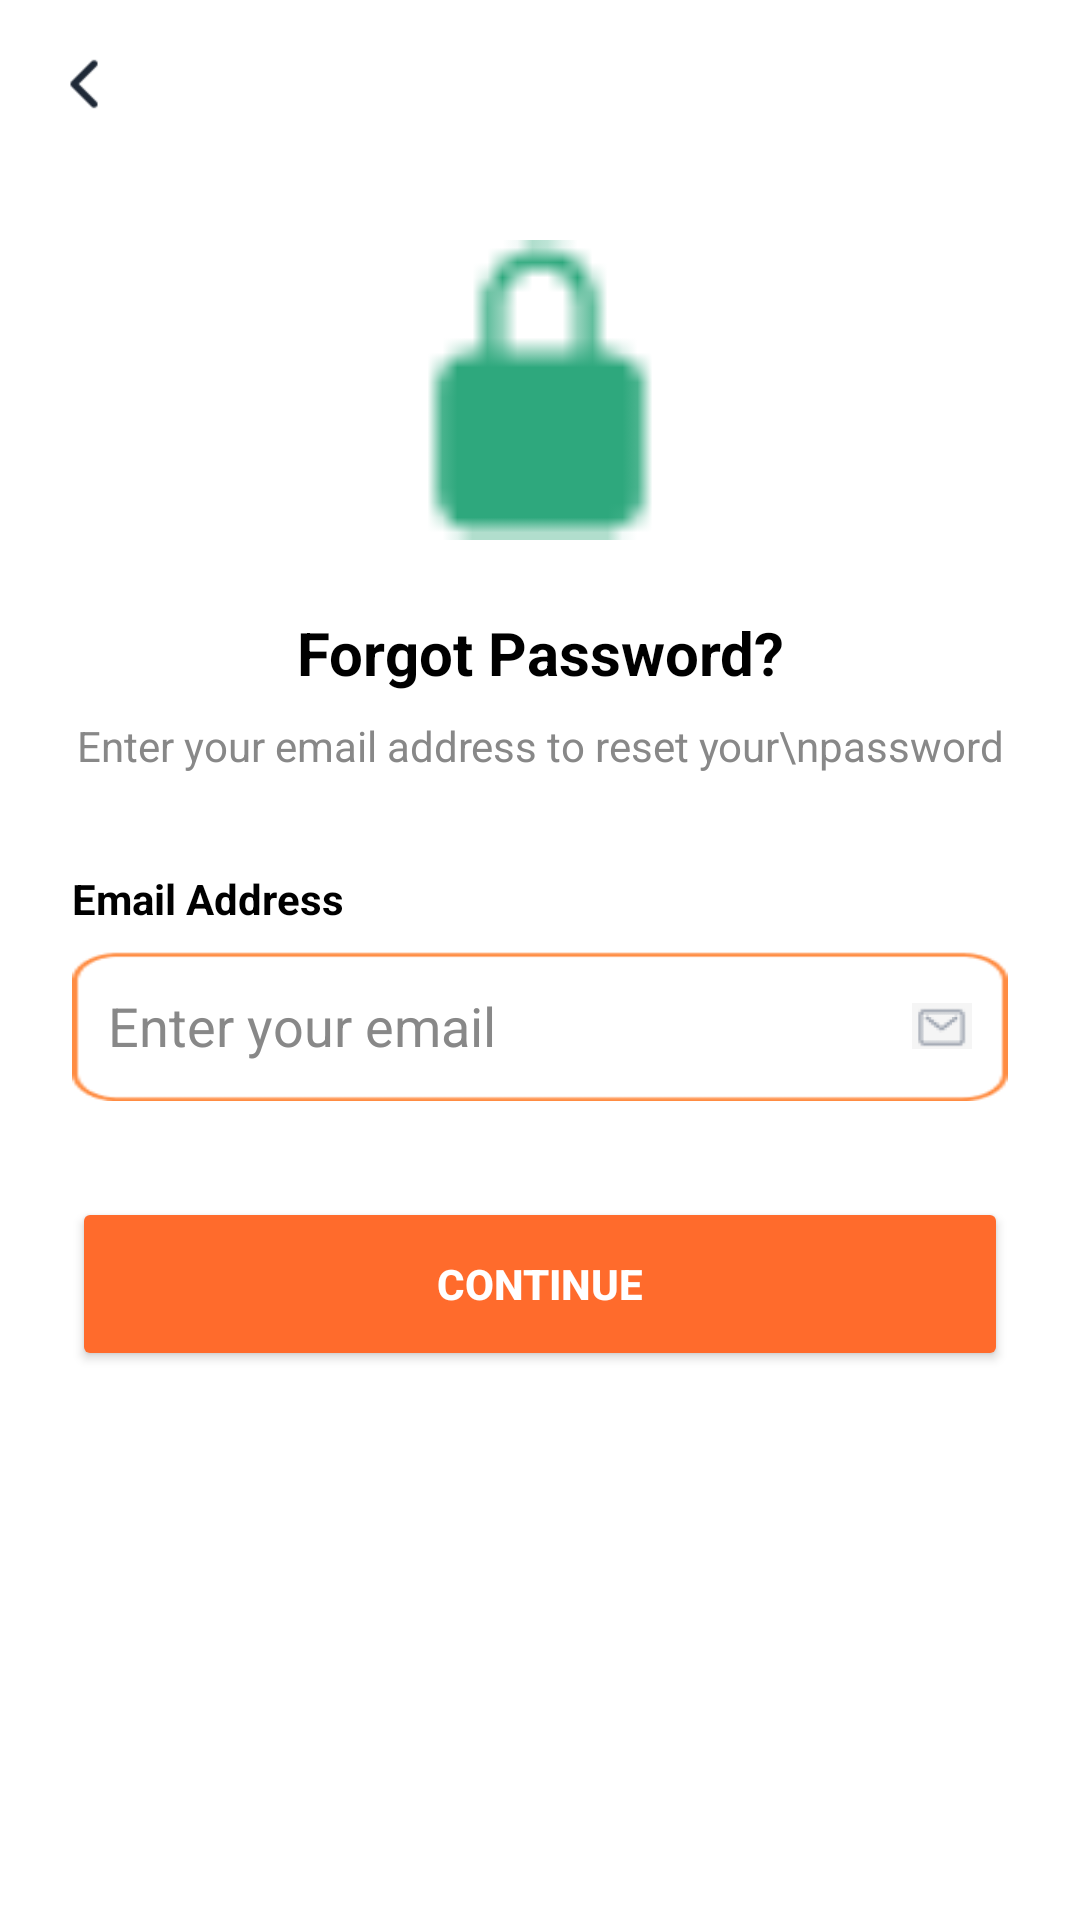

Named icons in this screenshot (1080px x 1920px) and their centers, point (x, y):
Back: point (84, 84)
lock: point (540, 390)
